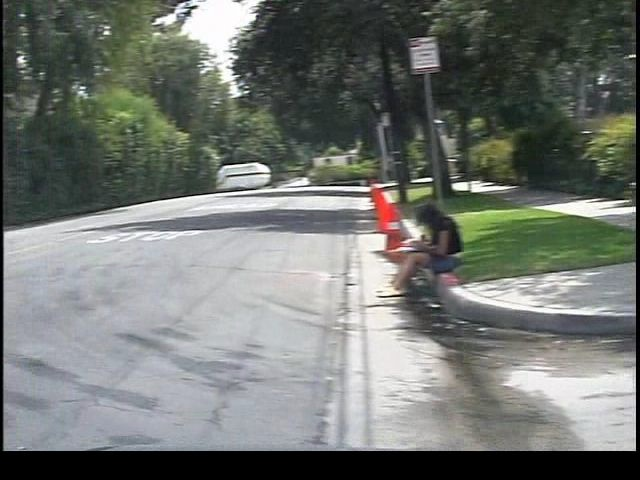person: (360, 197, 454, 298)
